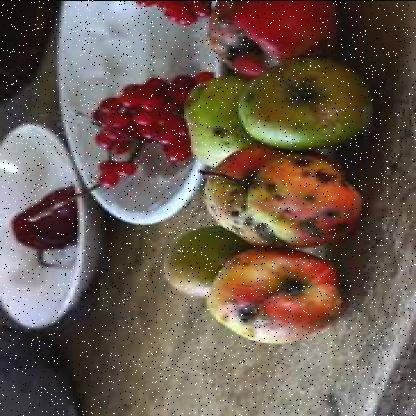damaged_apple: (207, 142, 364, 250), (243, 52, 373, 154), (212, 249, 346, 344), (187, 76, 259, 172)
